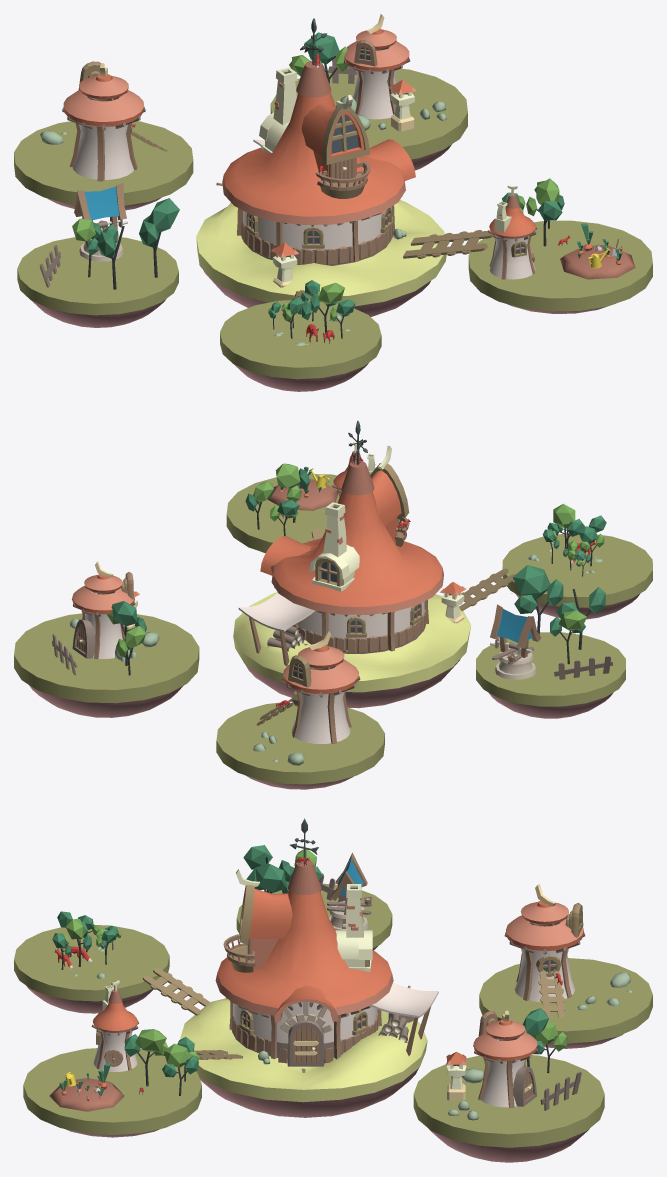
The model's file is islands.glb.
3 renders of one model, top to bottom at view 1: azimuth 30°, elevation 25°; view 2: azimuth 150°, elevation 25°; view 3: azimuth 270°, elevation 25°, orthographic. The views are drawn at different scales.
Parts seen in each view (by area): view 1: pCylinder11, polySurface11, polySurface1208, polySurface1188, polySurface1188_floor2_0.002, polySurface1522, polySurface1188_floor2_0.001, polySurface345, polySurface12, polySurface16, polySurface342, polySurface898 (+20 smaller); view 2: polySurface11, polySurface1188_floor2_0.001, polySurface1522, pCylinder11, polySurface1188_floor2_0.002, polySurface1188, polySurface1208, polySurface345, pSphere1, polySurface12, polySurface1189_ground_0.001, polySurface900 (+24 smaller); view 3: pCylinder11, polySurface1188_floor2_0.001, polySurface11, polySurface1208, polySurface1188, polySurface1522, pSphere1, polySurface16, polySurface12, polySurface1189_ground_0.001, polySurface342, pCube205 (+28 smaller).
Boxes of the visible parts, x1,y1,x2,y2 form: pCylinder11: (196,200,447,306); polySurface11: (222,92,405,224); polySurface1208: (468,220,652,311); polySurface1188: (220,299,381,379); polySurface1188_floor2_0.002: (17,237,178,315); polySurface1522: (14,121,193,205); polySurface1188_floor2_0.001: (270,67,467,159); polySurface345: (73,97,133,179); polySurface12: (243,207,391,249); polySurface16: (301,102,364,182); polySurface342: (63,89,144,126); polySurface898: (403,230,493,258); polySurface11: (270,490,443,614); polySurface1188_floor2_0.001: (14,613,199,703); polySurface1522: (216,701,384,784); pCylinder11: (233,592,470,692); polySurface1188_floor2_0.002: (476,632,625,706); polySurface1188: (502,533,652,607); polySurface1208: (226,474,399,552); polySurface345: (291,666,350,743); pSphere1: (245,659,460,708); polySurface12: (296,601,424,638); polySurface1189_ground_0.001: (29,685,182,717); polySurface900: (238,593,315,631); pCylinder11: (180,998,427,1102); polySurface1188_floor2_0.001: (413,1055,604,1147); polySurface11: (215,891,393,1015); polySurface1208: (23,1048,201,1135); polySurface1188: (14,925,169,1001); polySurface1522: (479,958,652,1043); pSphere1: (199,1068,418,1117); polySurface16: (249,889,292,969); polySurface12: (233,1002,377,1043); polySurface1189_ground_0.001: (428,1128,589,1162); polySurface342: (506,915,583,950); pCube205: (49,1078,124,1111).
Size of the model in its own units: 67.97 by 35.38 by 73.92.
